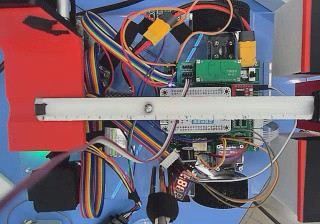ironball: (143, 102, 152, 113)
